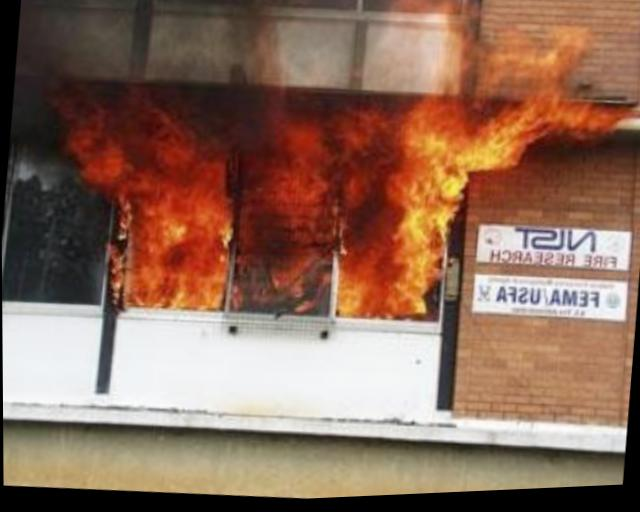fire: (46, 0, 621, 374)
